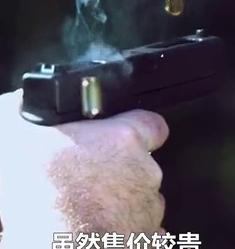gun: (1, 1, 235, 249)
